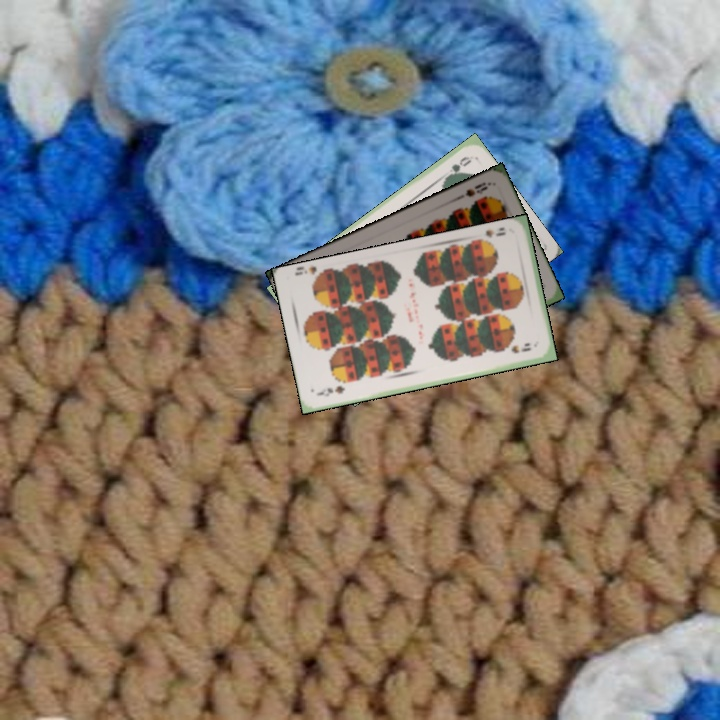GO: (440, 152, 474, 183)
S8: (455, 178, 493, 202)
S9: (474, 223, 508, 246), (314, 382, 347, 399)
